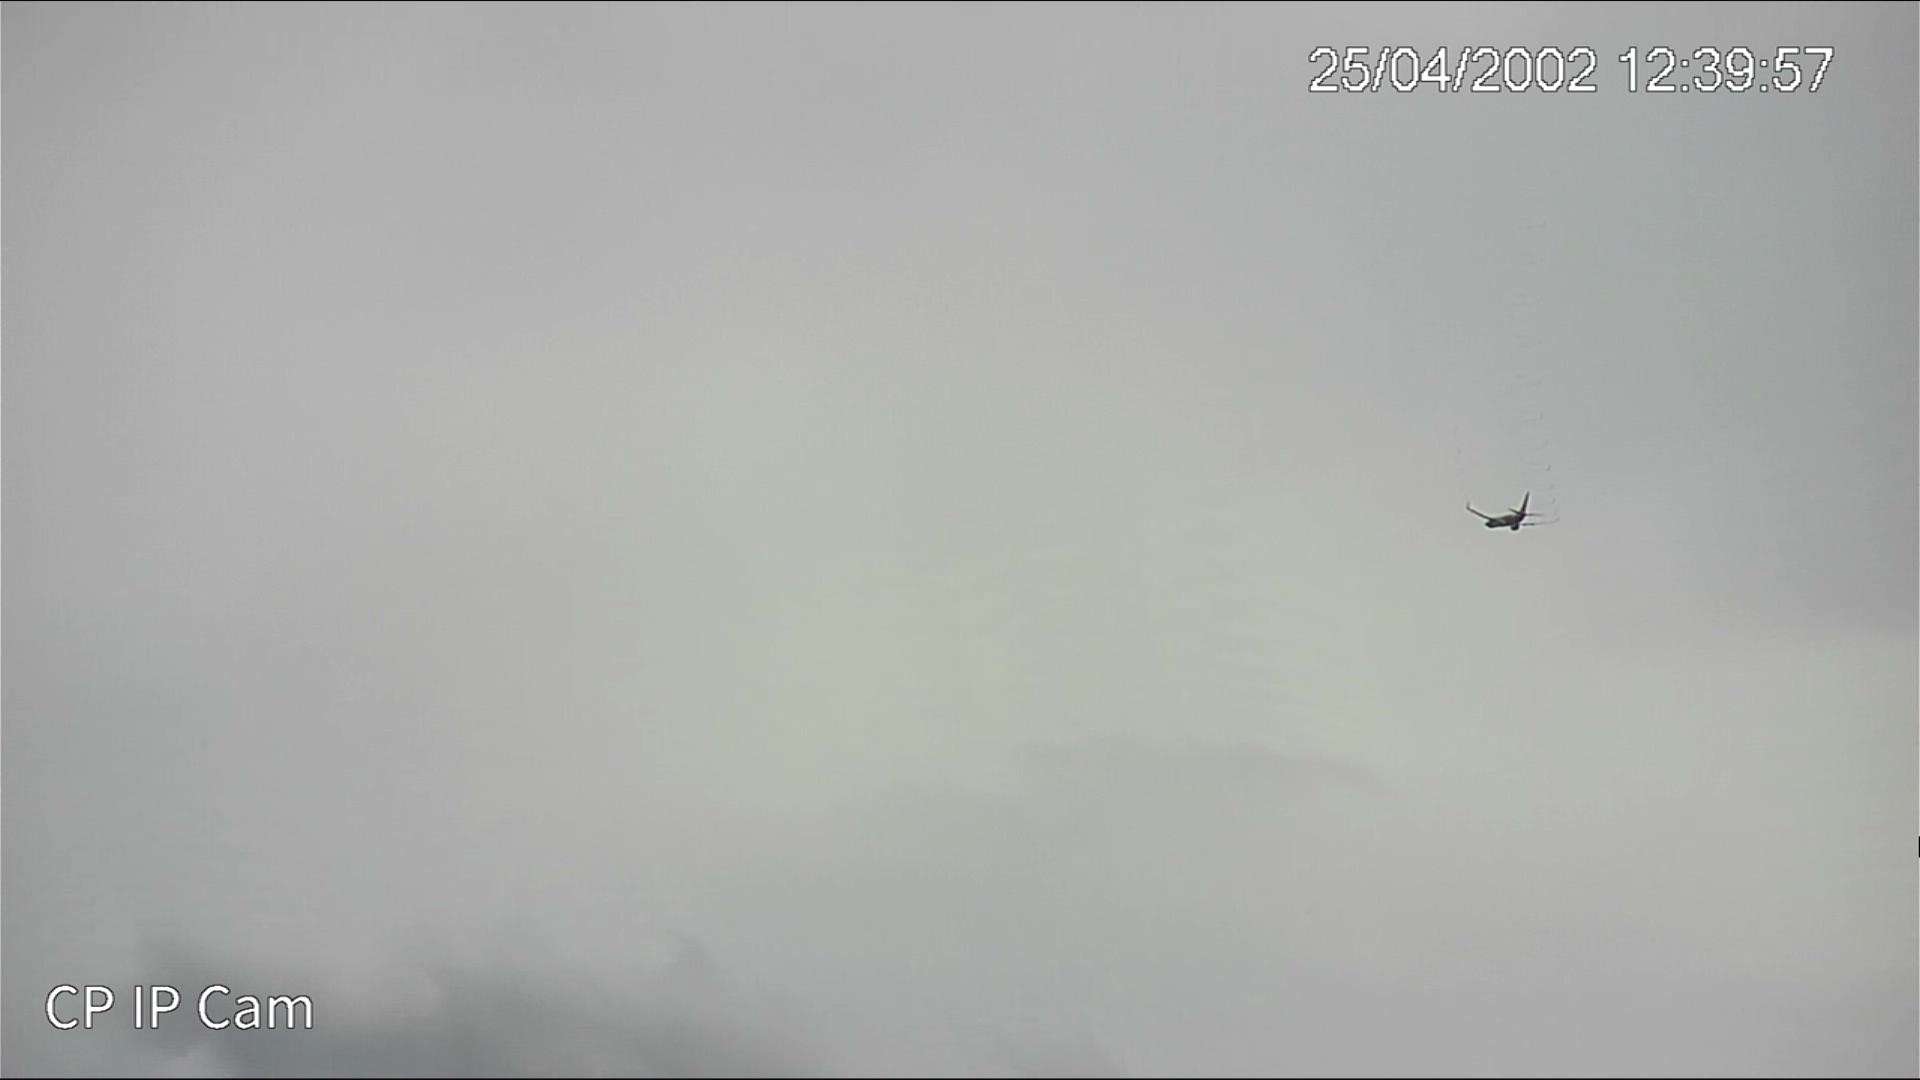SU_30: (1465, 493, 1547, 527)
